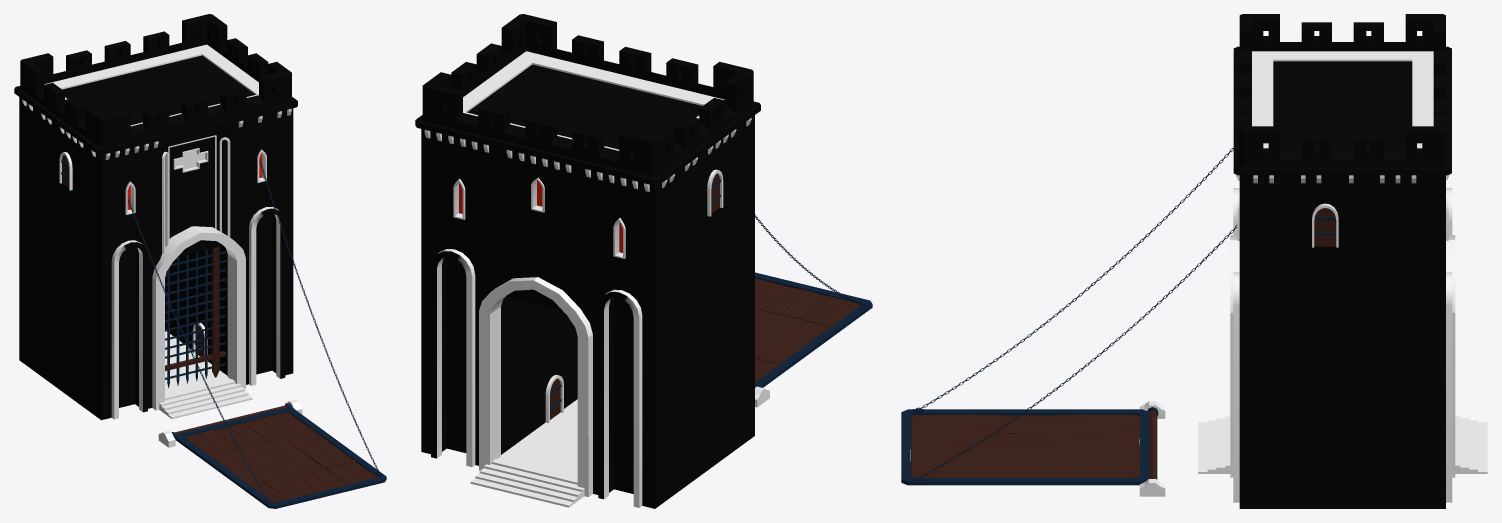
File: castle_gate_a.FBX
The picture shows the model from 3 angles, left to right: view 1: azimuth 30°, elevation 25°; view 2: azimuth 150°, elevation 25°; view 3: azimuth 270°, elevation 25°; orthographic projection. The views are drawn at different scales.
Visible parts, largest first — view 1: castle_gate_a; view 2: castle_gate_a; view 3: castle_gate_a.
Boxes of the visible parts, box(x1,y1,x2,y2) form: castle_gate_a: box(14, 14, 386, 508); castle_gate_a: box(415, 14, 872, 508); castle_gate_a: box(901, 14, 1487, 508).
Bounding box in the file's own units: 1803 × 2624 × 3636.
